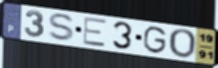3: (110, 21, 136, 51), (23, 9, 45, 39)
E: (82, 16, 108, 48)
G: (142, 26, 169, 56)
O: (167, 27, 198, 60)
S: (47, 12, 78, 43)
